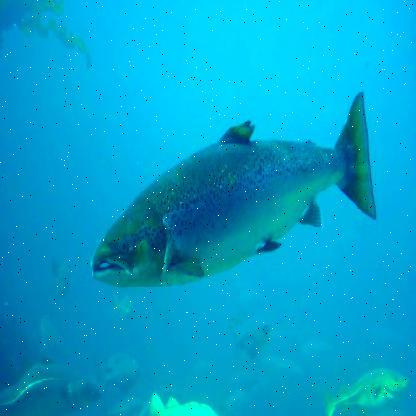fish: (88, 92, 376, 284)
